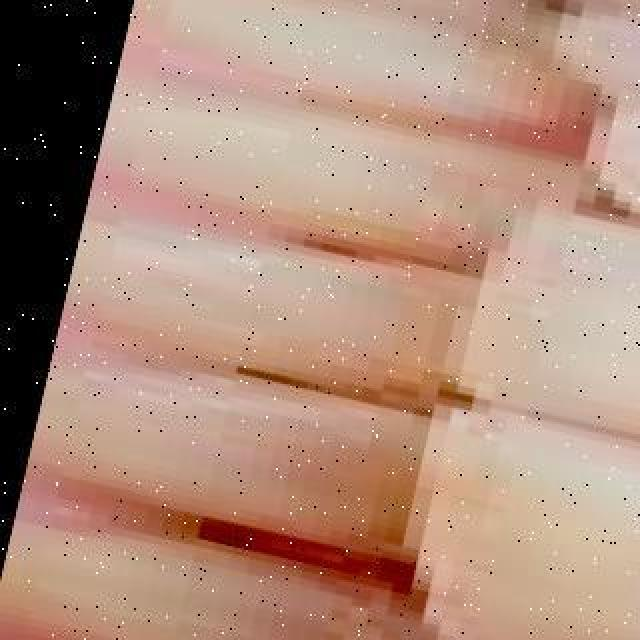spacing: (163, 496, 413, 600)
